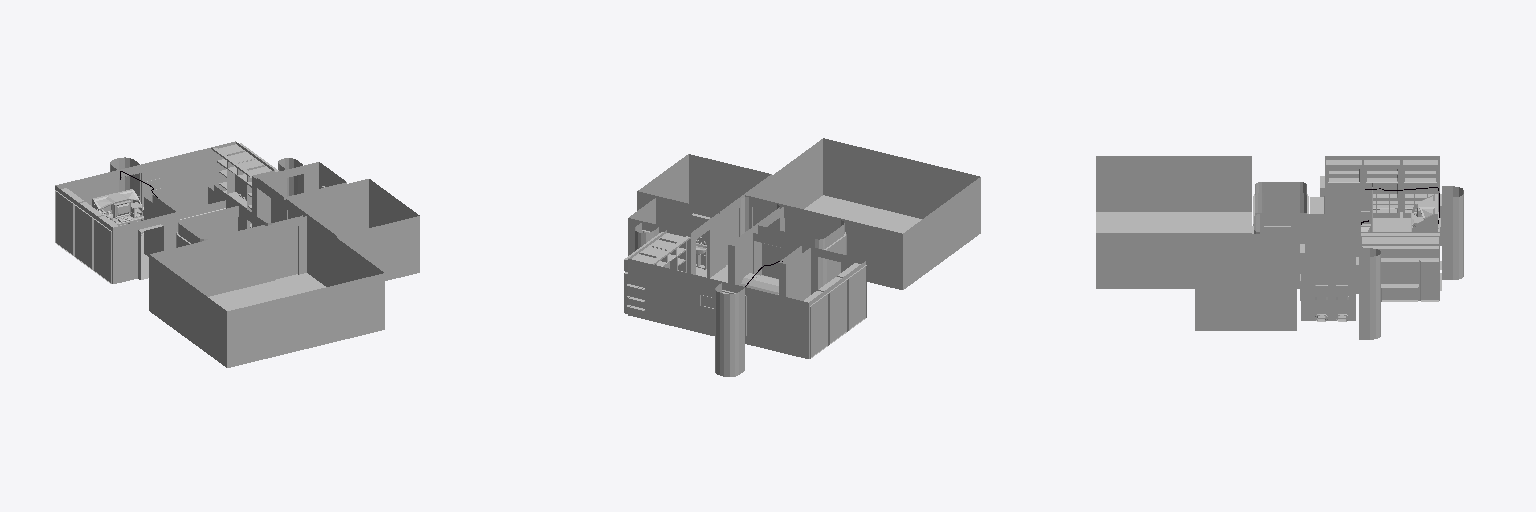
File: bad_room.obj
The picture shows the model from 3 angles: view 1: azimuth 30°, elevation 25°; view 2: azimuth 150°, elevation 25°; view 3: azimuth 270°, elevation 25°; orthographic projection.
Visible parts, largest first — view 1: Plane, Cube.008_Cube.010, Cube, Cube.005; view 2: Plane, Cube.008_Cube.010, Cube; view 3: Plane, Cube.008_Cube.010, Cube.006, Cube, Cube.014_Cube.011, Cube.003_Cube.008, Cube.005.
Part boxes in pixels (x1,y1,x2,y2): Plane: (55, 141, 419, 367); Cube.008_Cube.010: (211, 143, 279, 227); Cube: (144, 195, 175, 256); Cube.005: (92, 189, 143, 235); Plane: (628, 138, 980, 376); Cube.008_Cube.010: (624, 232, 691, 313); Cube: (741, 246, 810, 300); Plane: (1096, 156, 1463, 339); Cube.008_Cube.010: (1361, 232, 1441, 301); Cube.006: (1364, 160, 1399, 217); Cube: (1325, 183, 1372, 231); Cube.014_Cube.011: (1403, 160, 1437, 217); Cube.003_Cube.008: (1326, 160, 1361, 182); Cube.005: (1411, 194, 1438, 231).
Size of the model in its own units: 52.87 by 17.23 by 69.22.